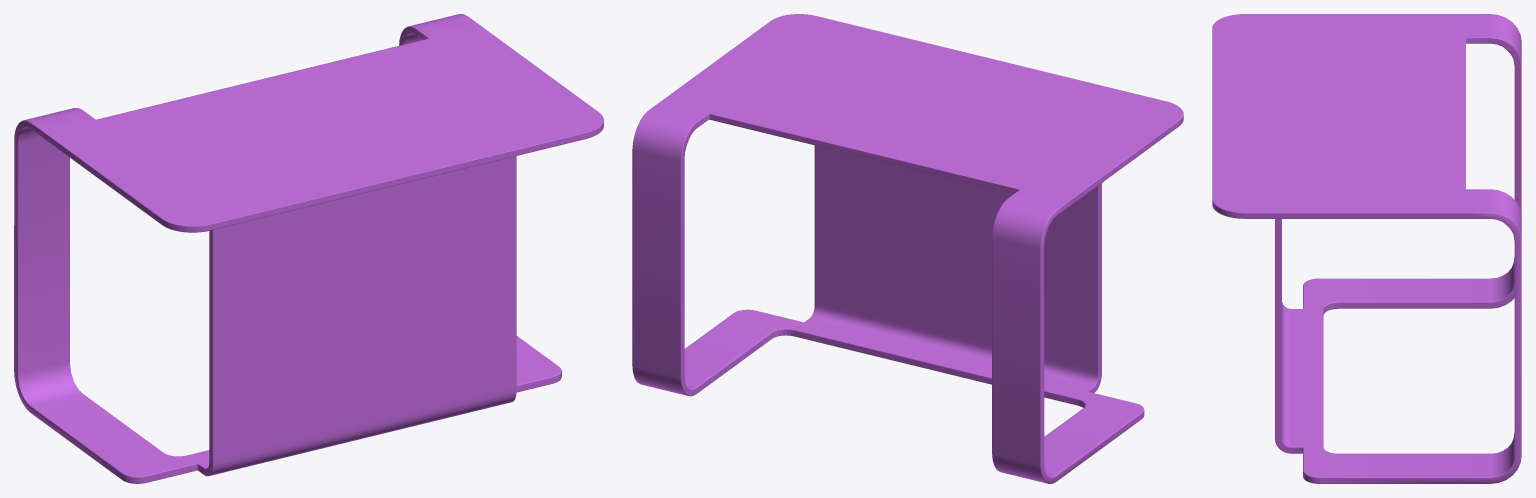
File: Table01.fbx
3 views of the same model, side by side, from view 1: azimuth 30°, elevation 25°; view 2: azimuth 150°, elevation 25°; view 3: azimuth 270°, elevation 25° (orthographic). The views are drawn at different scales.
Parts seen in each view (by area): view 1: SM_Table01; view 2: SM_Table01; view 3: SM_Table01.
Part boxes in pixels (x1,y1,x2,y2): SM_Table01: (14, 14, 603, 483); SM_Table01: (632, 14, 1183, 483); SM_Table01: (1212, 14, 1521, 483).
Size of the model in its own units: 1.3 by 0.8259 by 0.8542.
